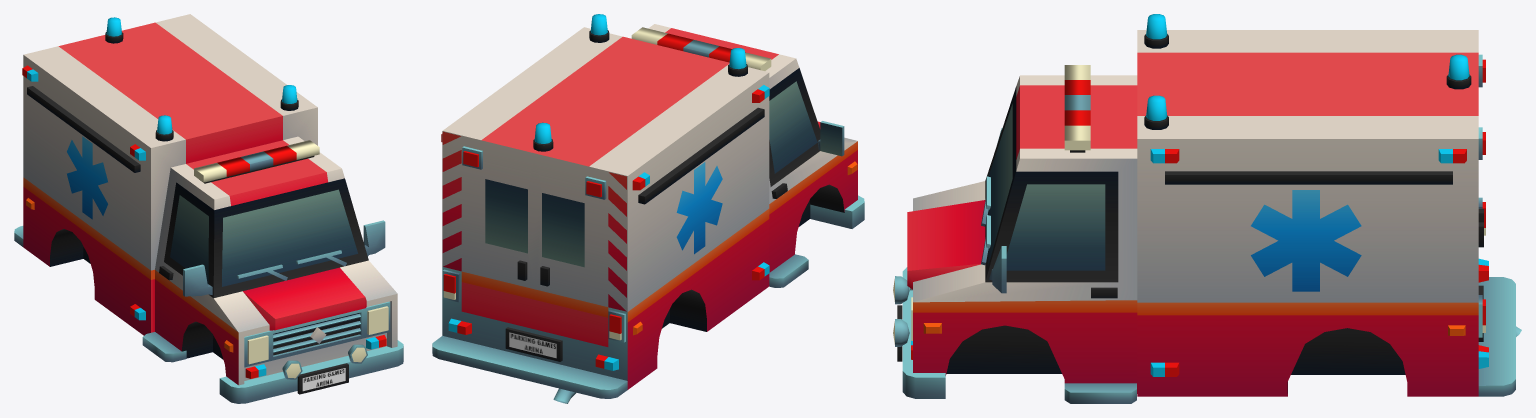
The model's file is CAR_3.fbx.
The picture shows the model from 3 angles, left to right: view 1: azimuth 30°, elevation 25°; view 2: azimuth 150°, elevation 25°; view 3: azimuth 270°, elevation 25°; orthographic projection. The views are drawn at different scales.
Visible parts, largest first — view 1: SHTV_Model_Car_Ambulance; view 2: SHTV_Model_Car_Ambulance; view 3: SHTV_Model_Car_Ambulance.
Boxes of the visible parts, left/top/right/bottom form: SHTV_Model_Car_Ambulance: left=14, top=14, right=403, bottom=403; SHTV_Model_Car_Ambulance: left=432, top=14, right=864, bottom=403; SHTV_Model_Car_Ambulance: left=893, top=14, right=1521, bottom=403.
Bounding box in the file's own units: 201 × 220 × 408.
